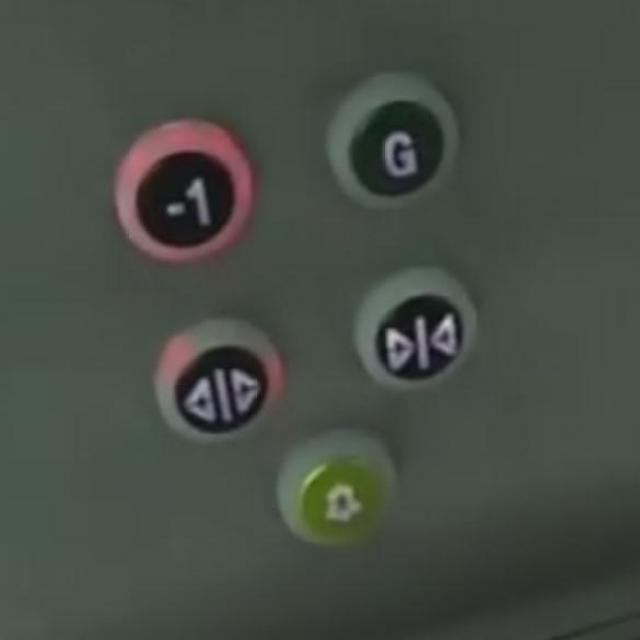-1: (112, 115, 254, 264)
G: (324, 67, 459, 212)
alarm: (276, 426, 400, 546)
close: (349, 260, 481, 393)
open: (150, 313, 281, 447)
